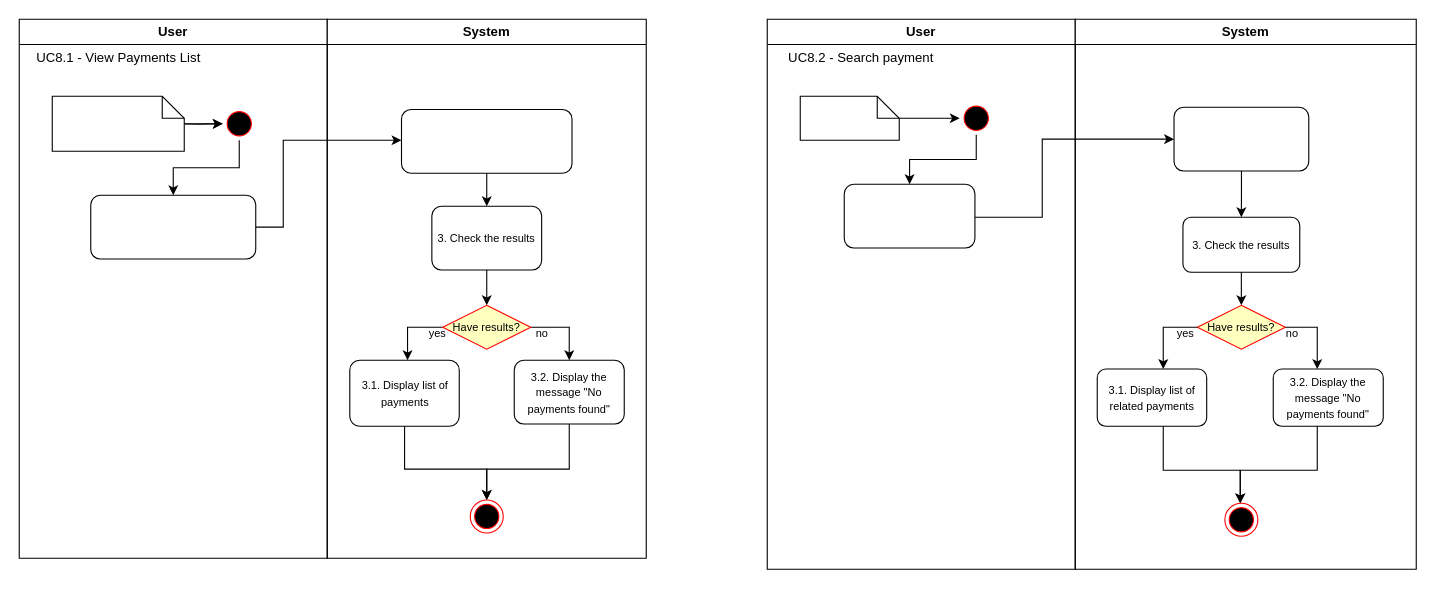
Image size: 1436x589. Some labels were removed from this diagram. Each missing label, with the centre of its shape:
1. Access to "Payment Management" page: pixel 173 226
1. Enter a keyword into the search bar or apply filters: pixel 909 215
2. Retrieve list of payments: pixel 486 140
2. Retrieve relavant permissions: pixel 1241 138
In UC2.1: pixel 849 117
User is logged in and has permisson: pixel 117 123
